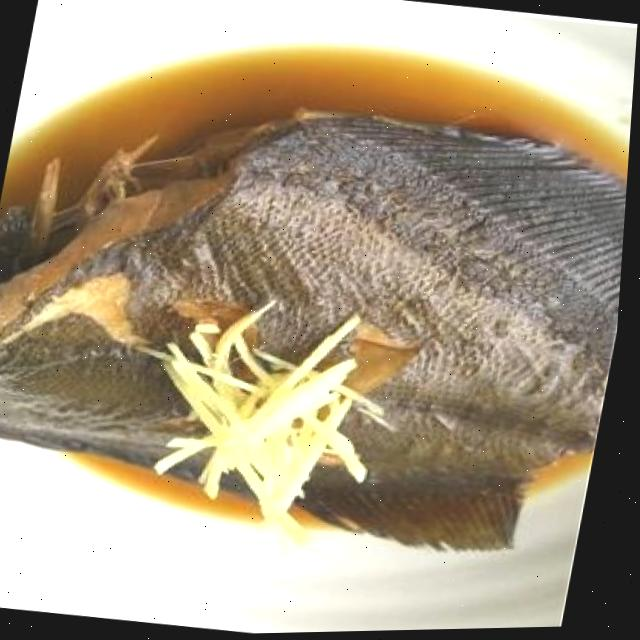熟制海鲜: (0, 41, 637, 624)
